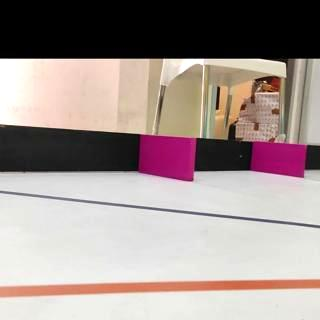xparking: (141, 136, 195, 176), (255, 145, 305, 174)
